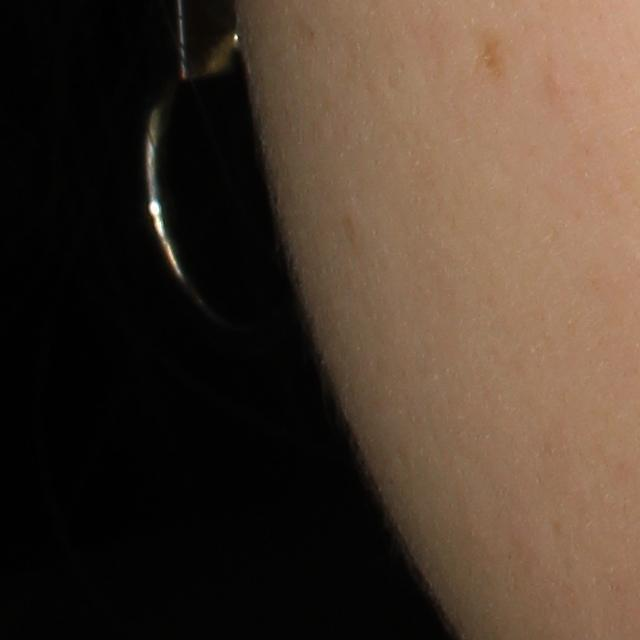melasma: (470, 25, 513, 88)
